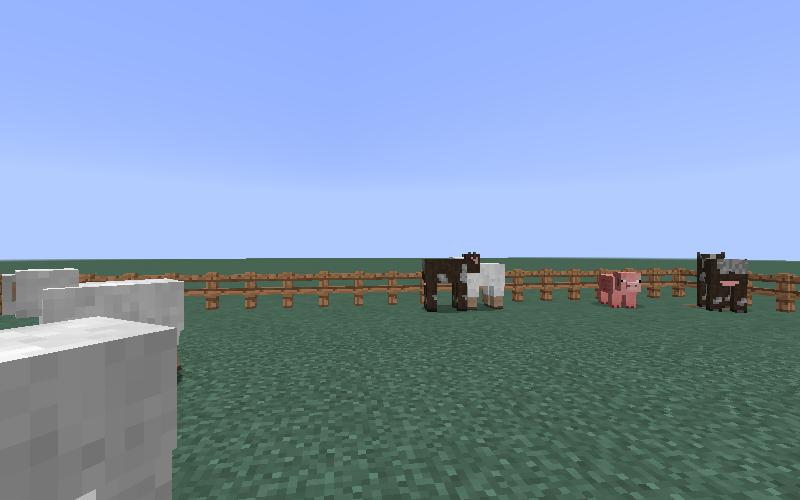cow: (418, 247, 482, 316), (694, 248, 751, 316)
pig: (592, 269, 647, 313)
sheep: (1, 267, 184, 332)
